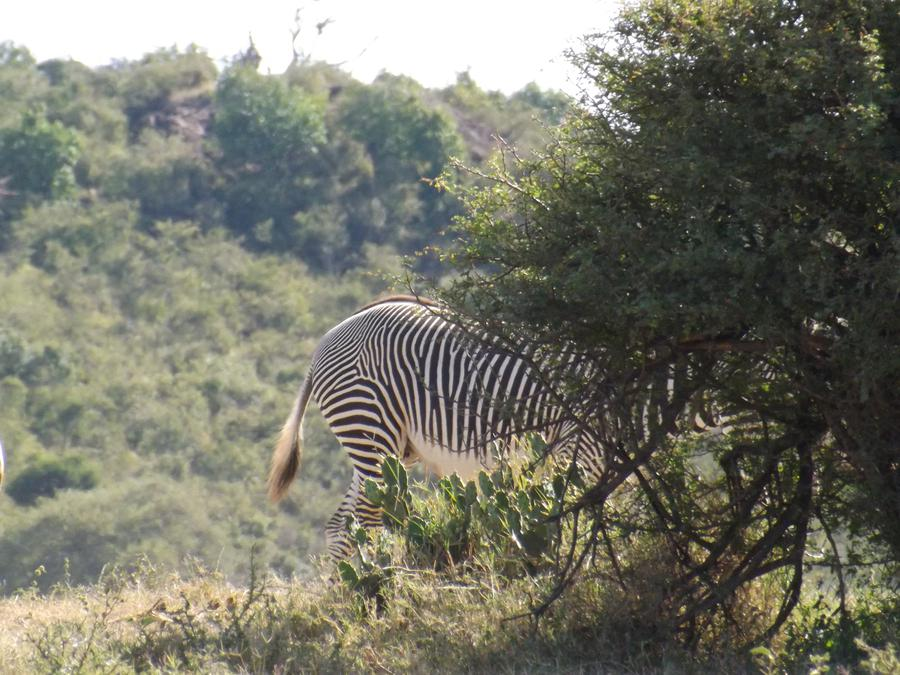zebra_grevys: (289, 294, 556, 457)
